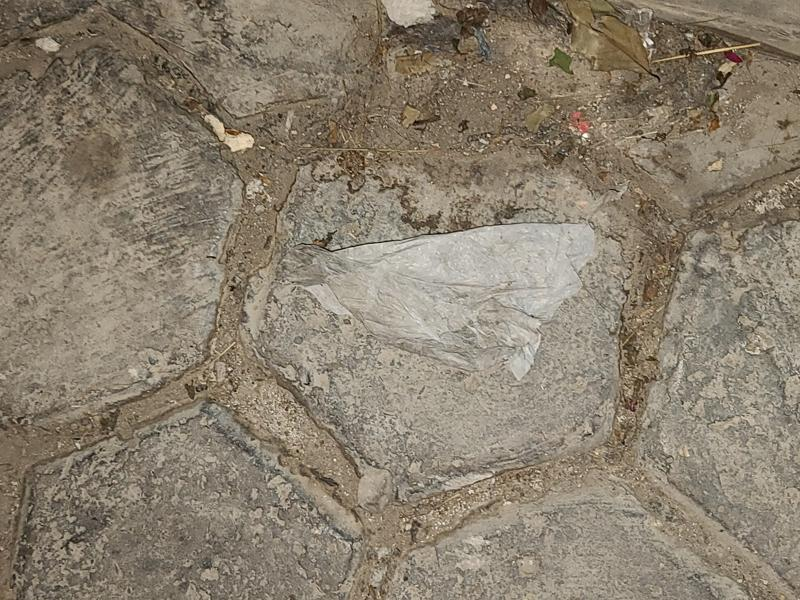papel: (317, 224, 596, 383)
